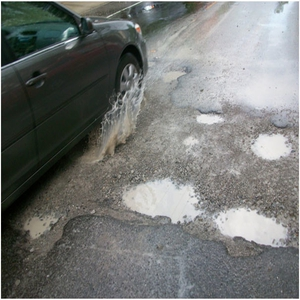pothole: (116, 172, 207, 225), (214, 205, 290, 245), (252, 127, 293, 159), (195, 112, 227, 127)
